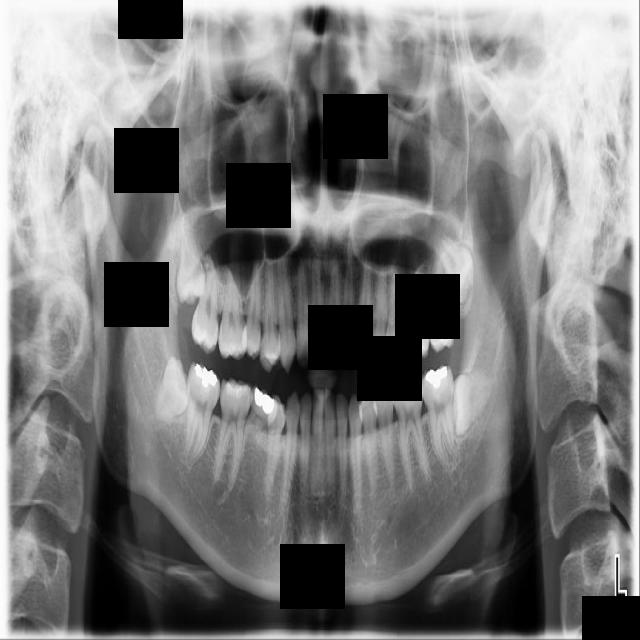3M ESPE Implant: (174, 213, 207, 306)
52: (176, 357, 232, 409), (212, 374, 257, 423), (415, 363, 460, 407), (241, 383, 283, 425), (388, 373, 428, 415), (401, 317, 430, 359), (257, 329, 284, 372), (428, 316, 457, 353), (385, 324, 405, 365), (267, 393, 287, 431), (397, 411, 400, 420)
73: (597, 556, 604, 566)
BioHorizons Implant: (425, 253, 457, 354)
BioLife Implant: (435, 228, 484, 307)
Biomet 3i Implant: (453, 371, 495, 436)
Blue Sky Bio Implant: (420, 365, 459, 469)
Caries: (191, 250, 221, 356)
Implant: (182, 357, 223, 468)
Keystone Dental Implant: (151, 354, 197, 426)
